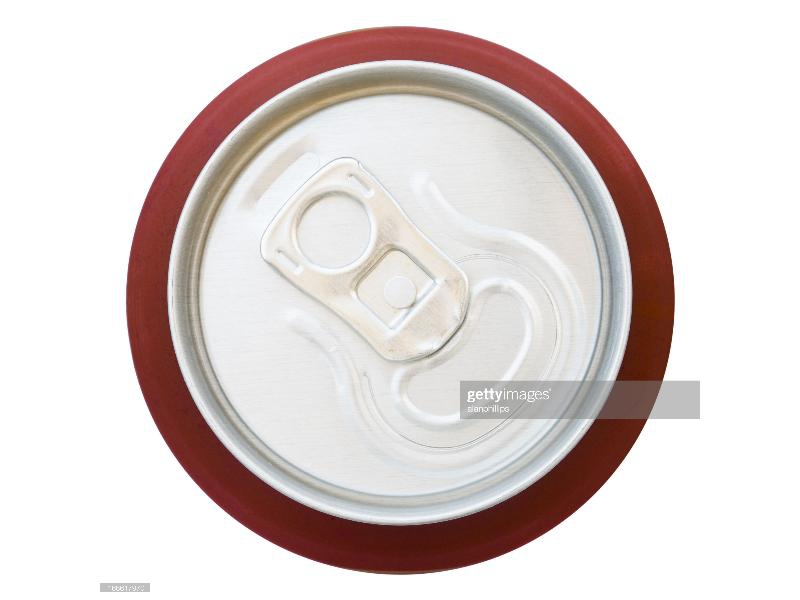can: (126, 25, 673, 576)
